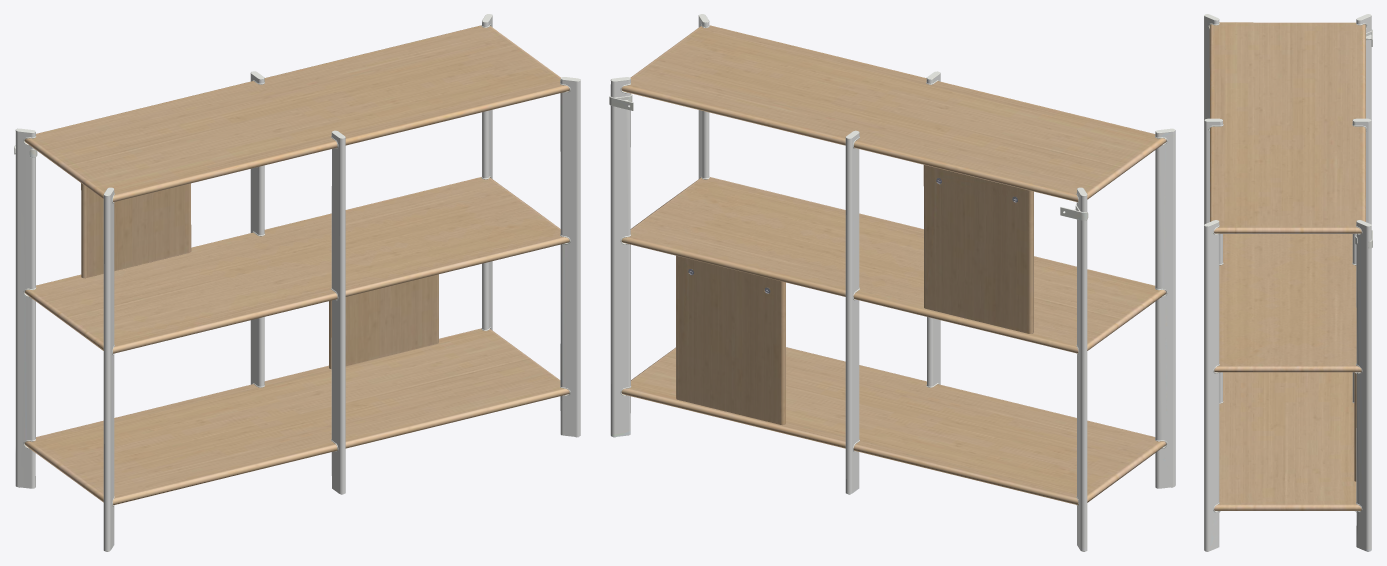
Rendered from JÄTTESTA shelf .glb.
3 views of the same model, side by side, from view 1: azimuth 30°, elevation 25°; view 2: azimuth 150°, elevation 25°; view 3: azimuth 270°, elevation 25° (orthographic). The views are drawn at different scales.
Parts seen in each view (by area): view 1: model; view 2: model; view 3: model.
Part boxes in pixels (left/top/right/bottom): model: left=14, top=14, right=580, bottom=551; model: left=609, top=14, right=1175, bottom=551; model: left=1204, top=14, right=1372, bottom=551.
Bounding box in the file's own units: 1.21 × 0.8596 × 0.403.
1 material, 1 textured.
